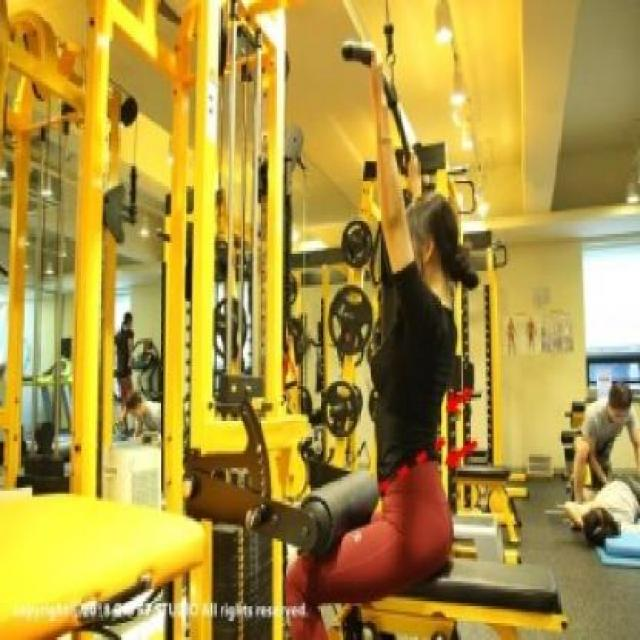Lat Pull Down: (9, 0, 565, 640)
